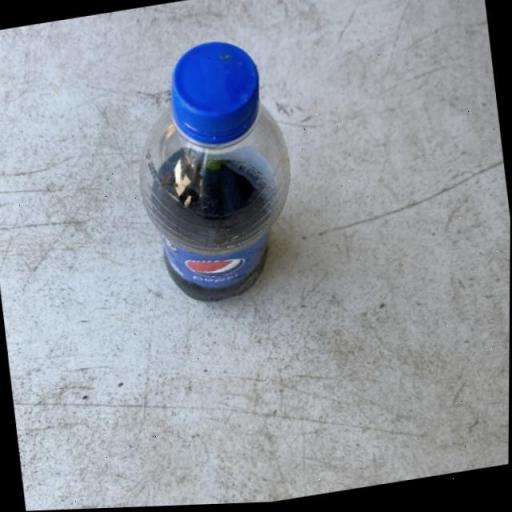plastic: (121, 30, 306, 313)
